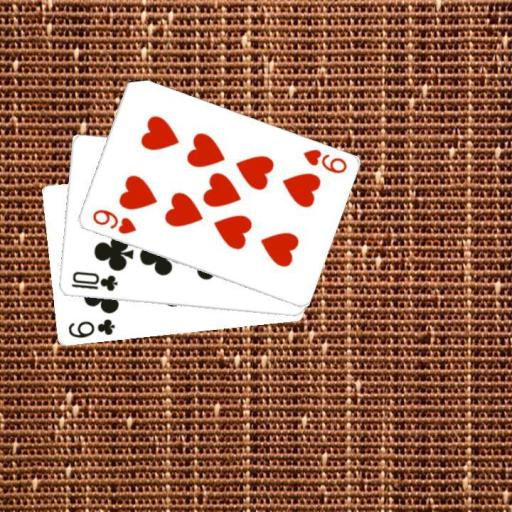10C: (68, 269, 119, 293)
6C: (65, 316, 116, 340)
9H: (300, 146, 349, 176), (89, 206, 137, 236)
